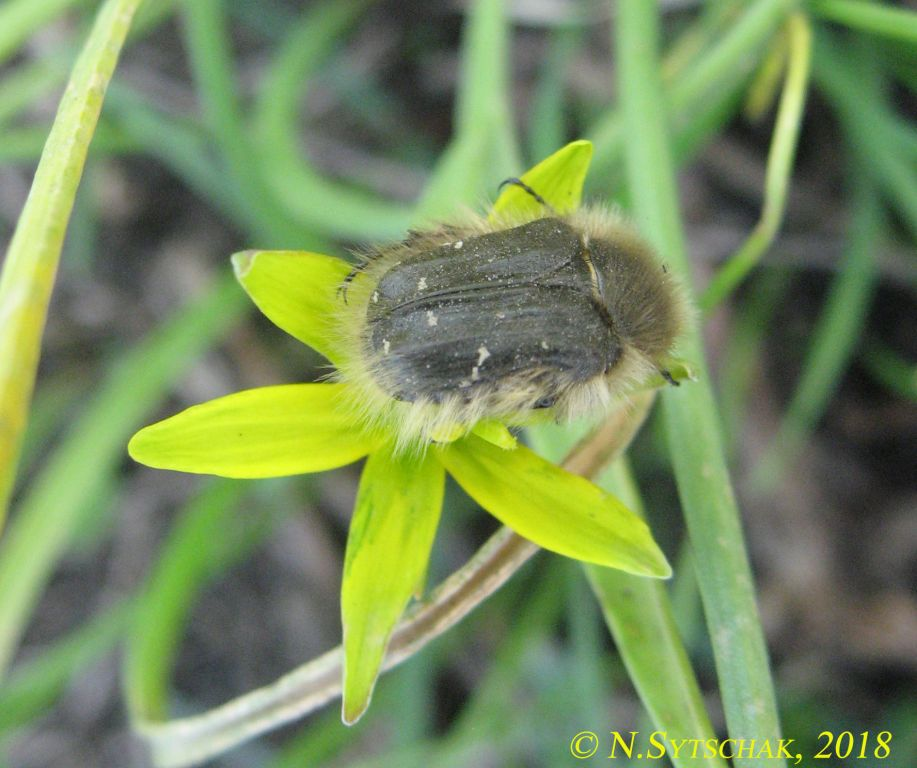Tropinota_hirta: (289, 157, 736, 474)
